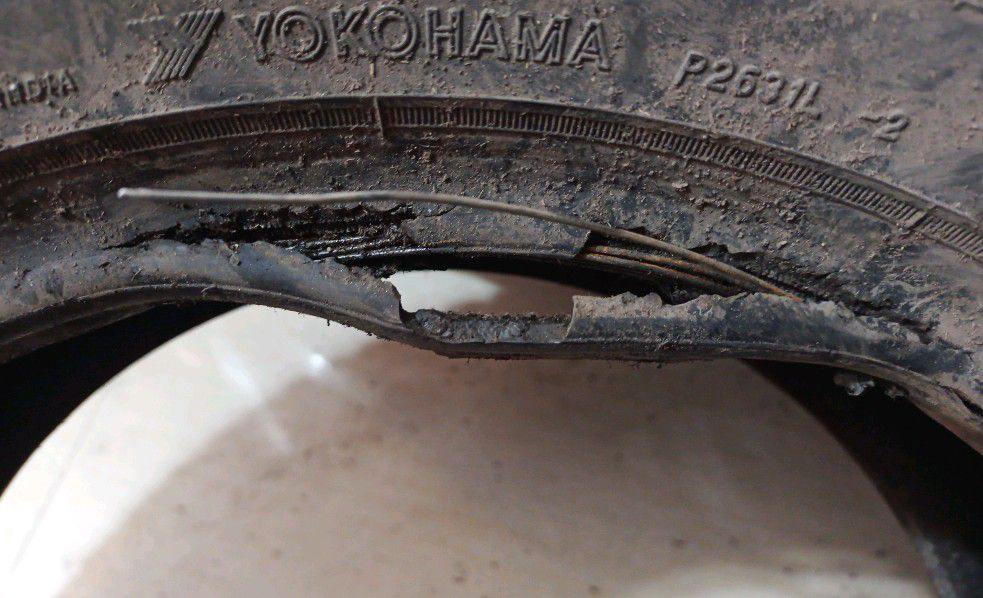bead_damage: (58, 172, 982, 453)
